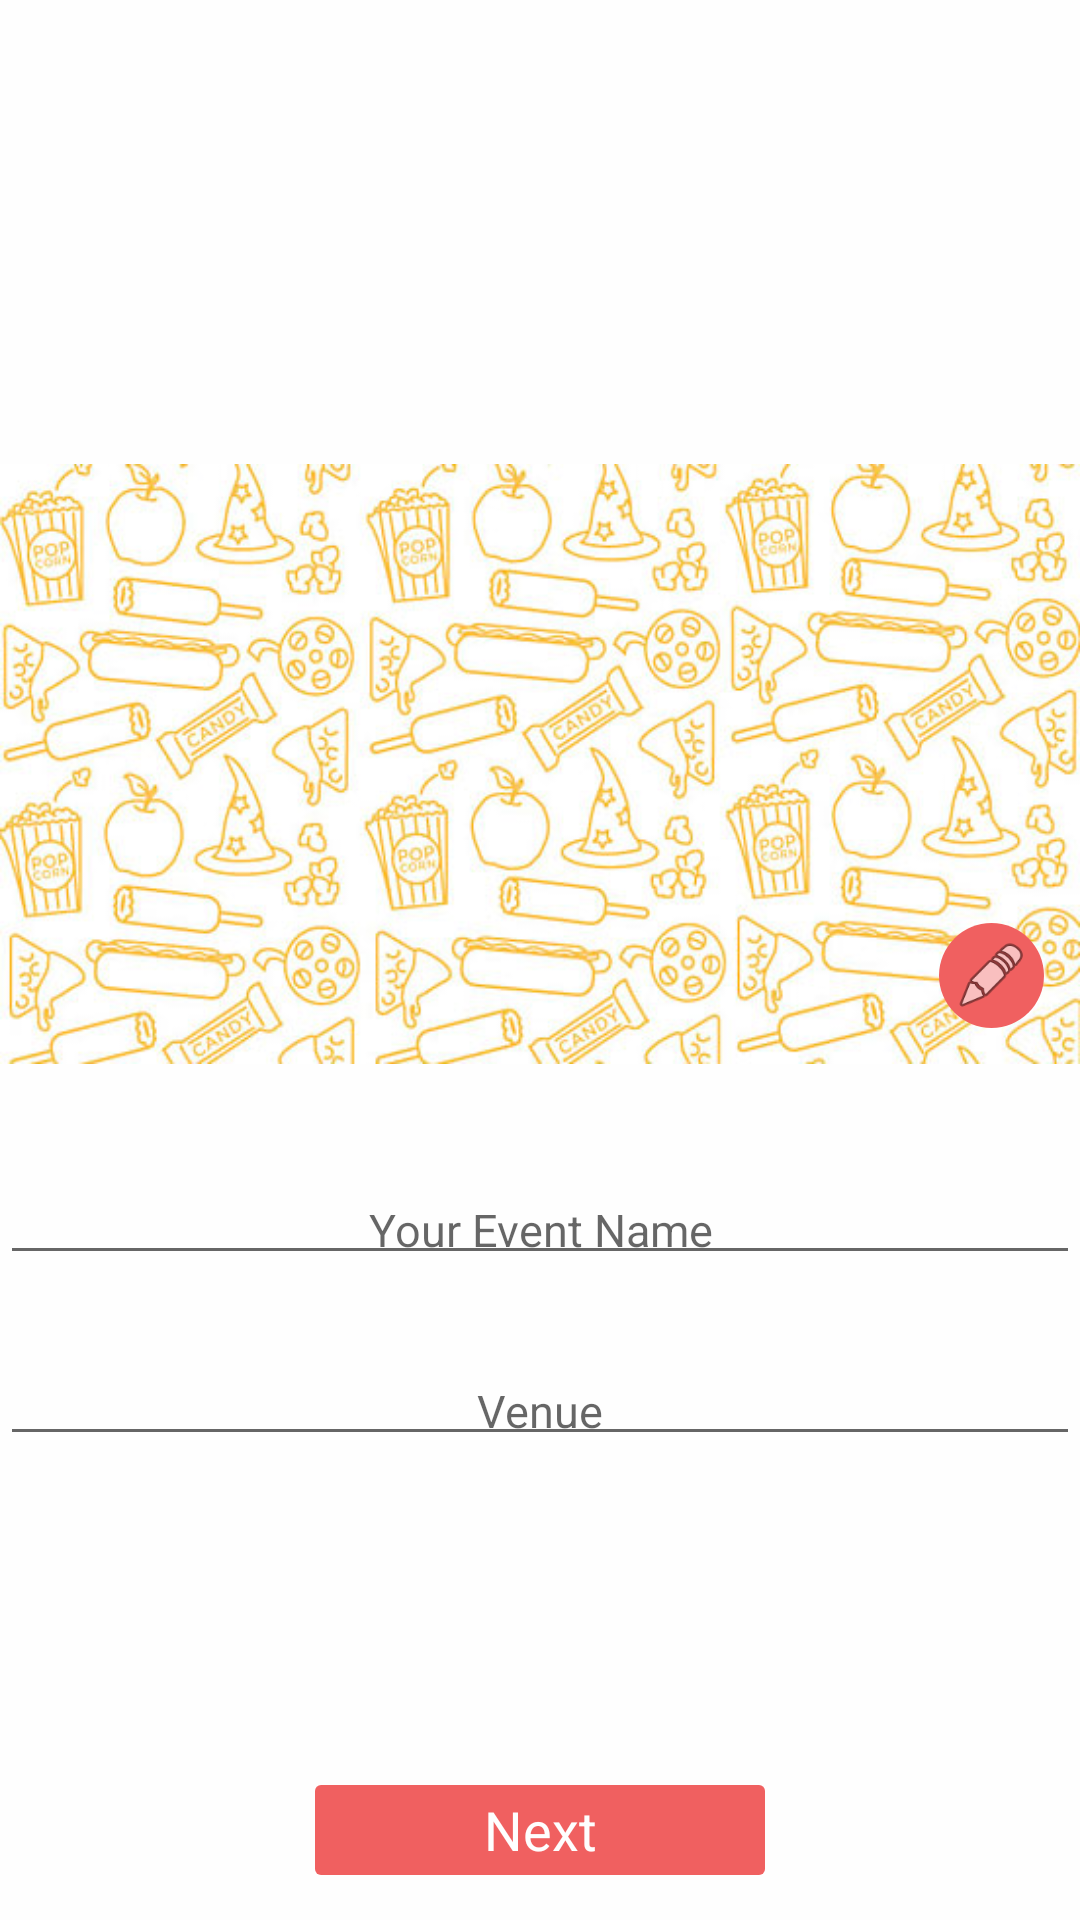

Icons on this 1080w x 1920h Android screen, each with the point to tap as (x,y):
edit: (991,975)
